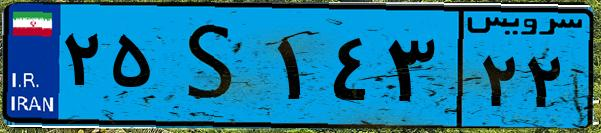1: (270, 28, 330, 110)
2: (57, 26, 110, 100), (475, 38, 525, 113), (525, 38, 570, 115)
3: (385, 28, 445, 110)
4: (330, 28, 385, 110)
5: (110, 28, 158, 98)
S: (158, 12, 270, 120)
